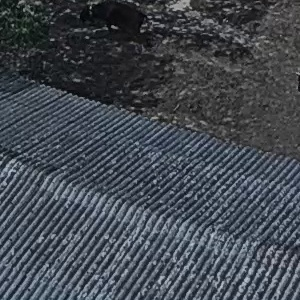cow: (74, 1, 164, 43)
